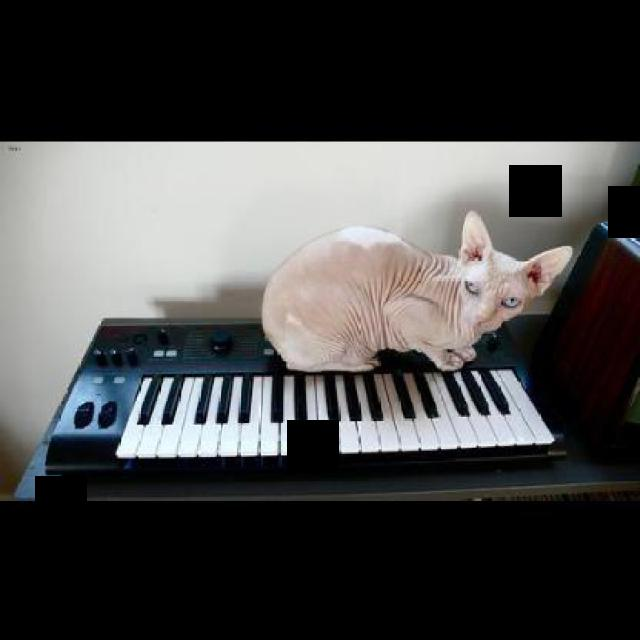unauthorized: (260, 209, 572, 374)
